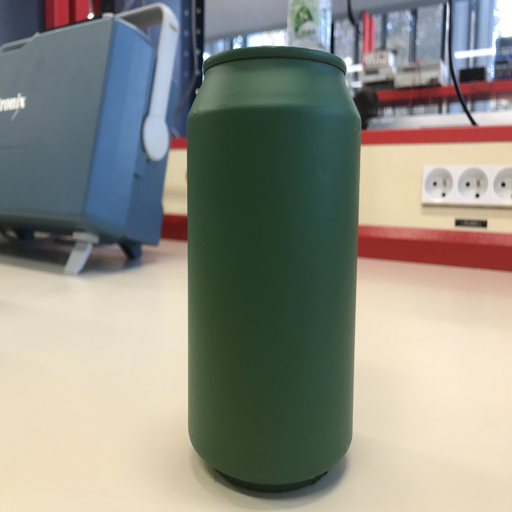Green_Can: (181, 43, 364, 496)
